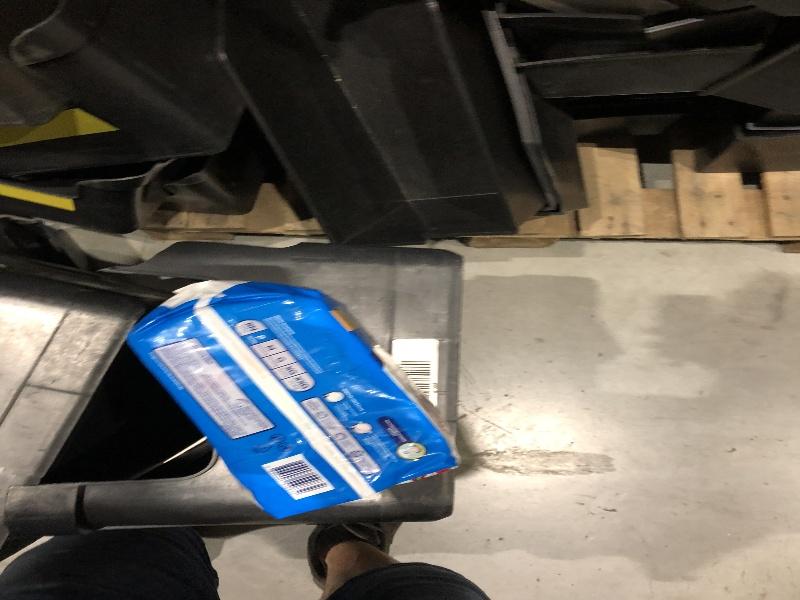fralda: (119, 281, 466, 519)
